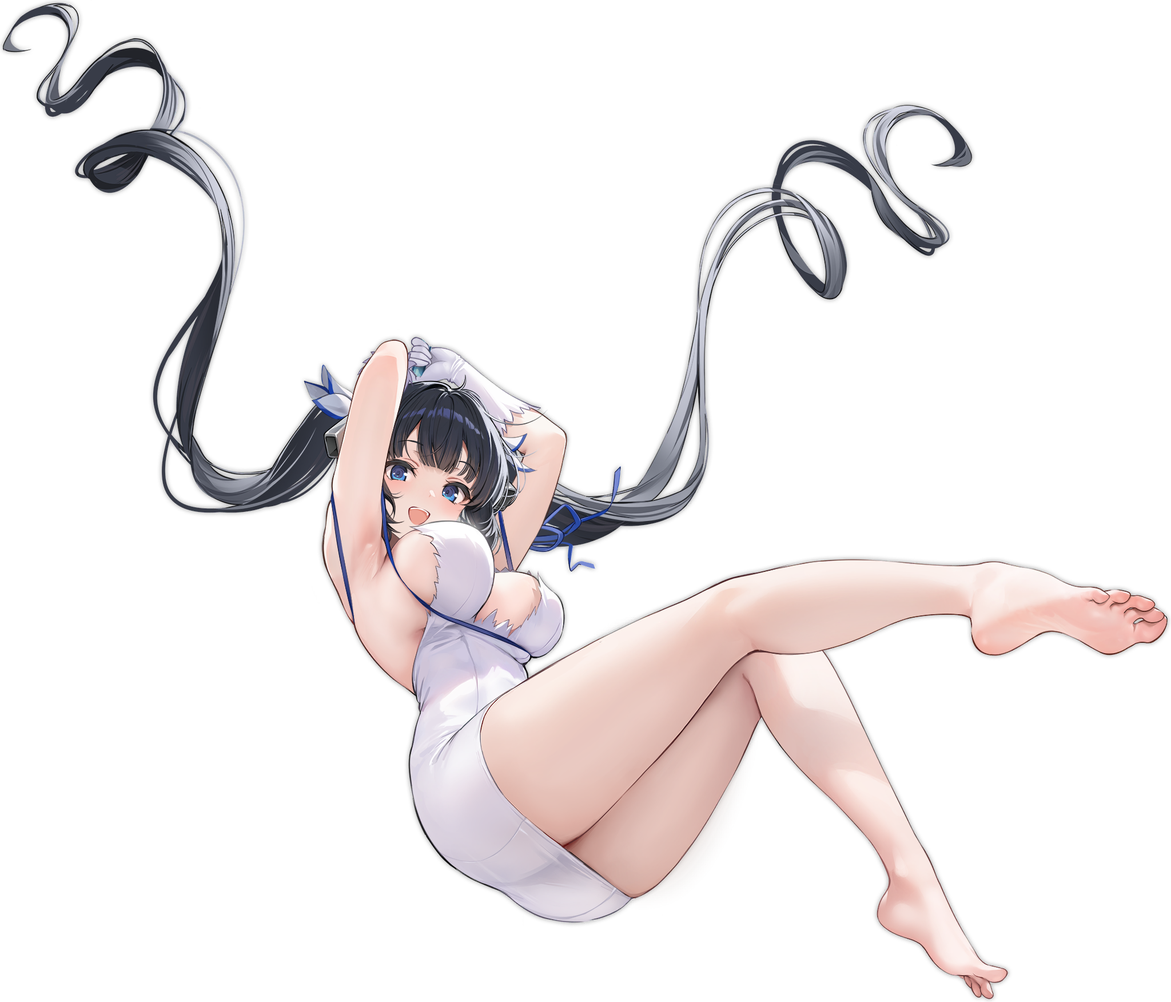person: (21, 11, 1169, 999)
